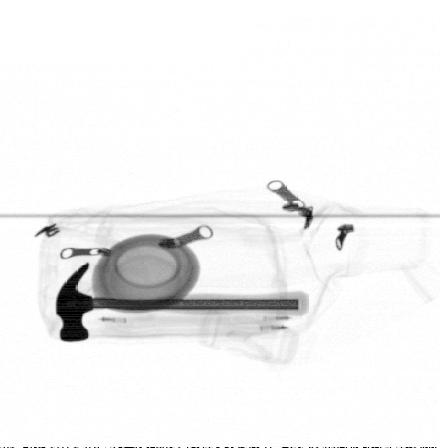Hammer: (55, 261, 310, 342)
